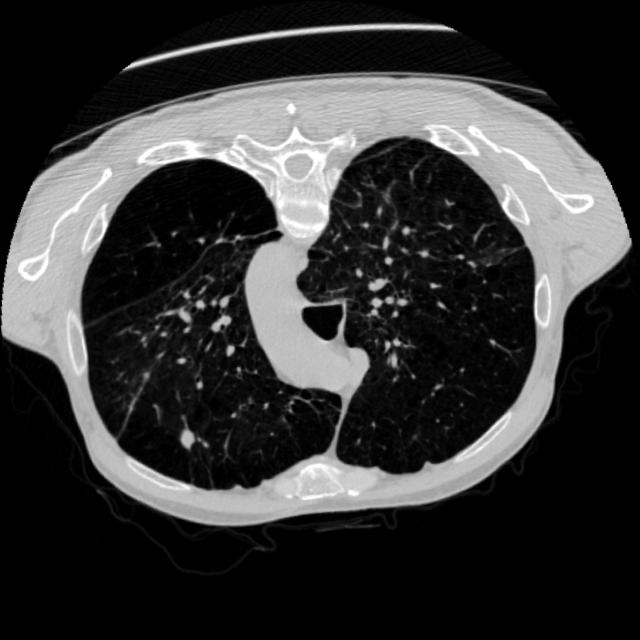nodule: (168, 420, 207, 459)
